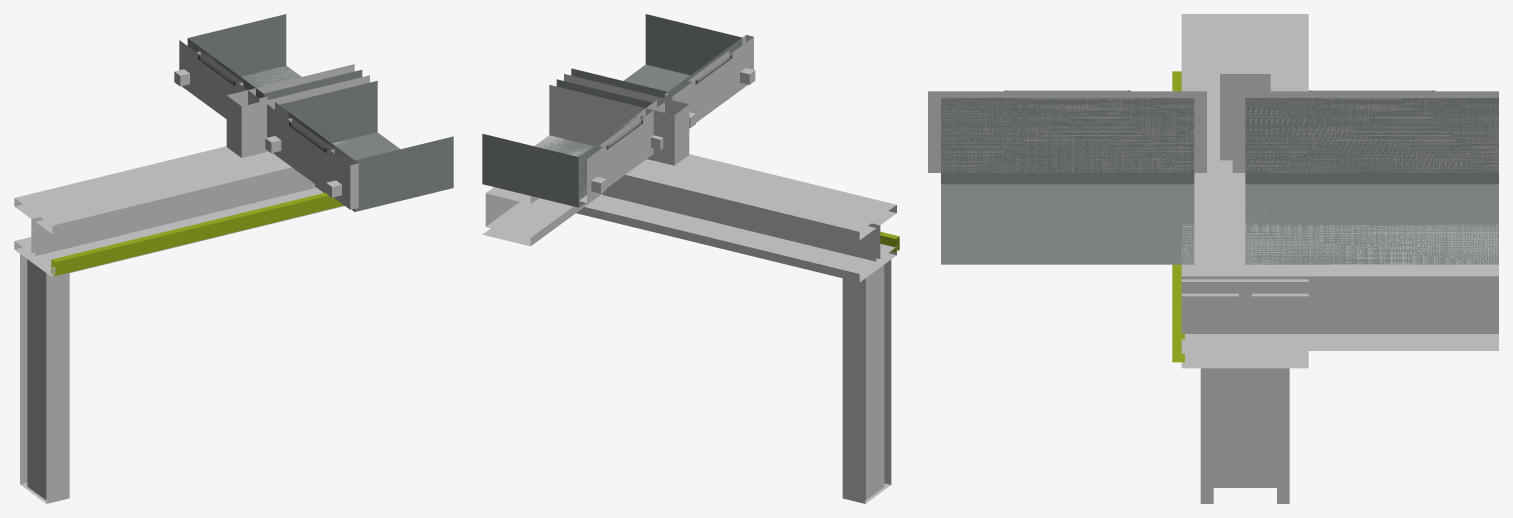
The model's file is cell_20.obj.
The picture shows the model from 3 angles, left to right: view 1: azimuth 30°, elevation 25°; view 2: azimuth 150°, elevation 25°; view 3: azimuth 270°, elevation 25°; orthographic projection. The views are drawn at different scales.
Size of the model in its own units: 1 by 1 by 0.9.
